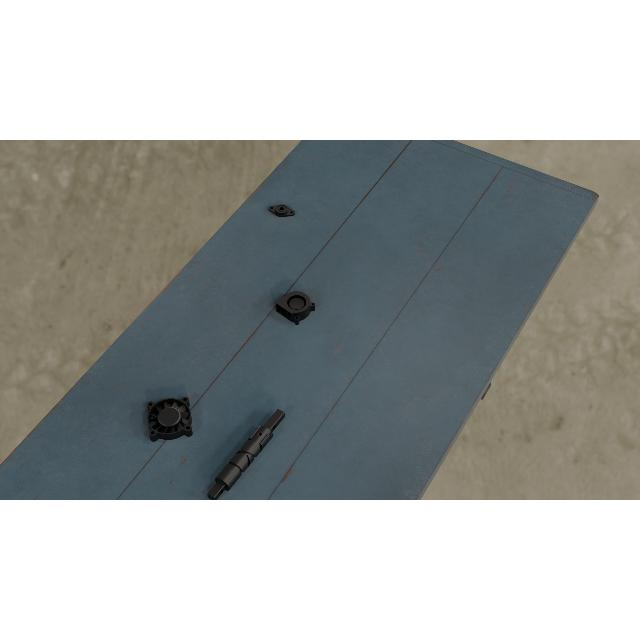Pieza1: (204, 404, 288, 500)
Pieza2: (266, 201, 298, 219)
Pieza3: (276, 286, 316, 326)
Pieza4: (146, 396, 194, 442)
